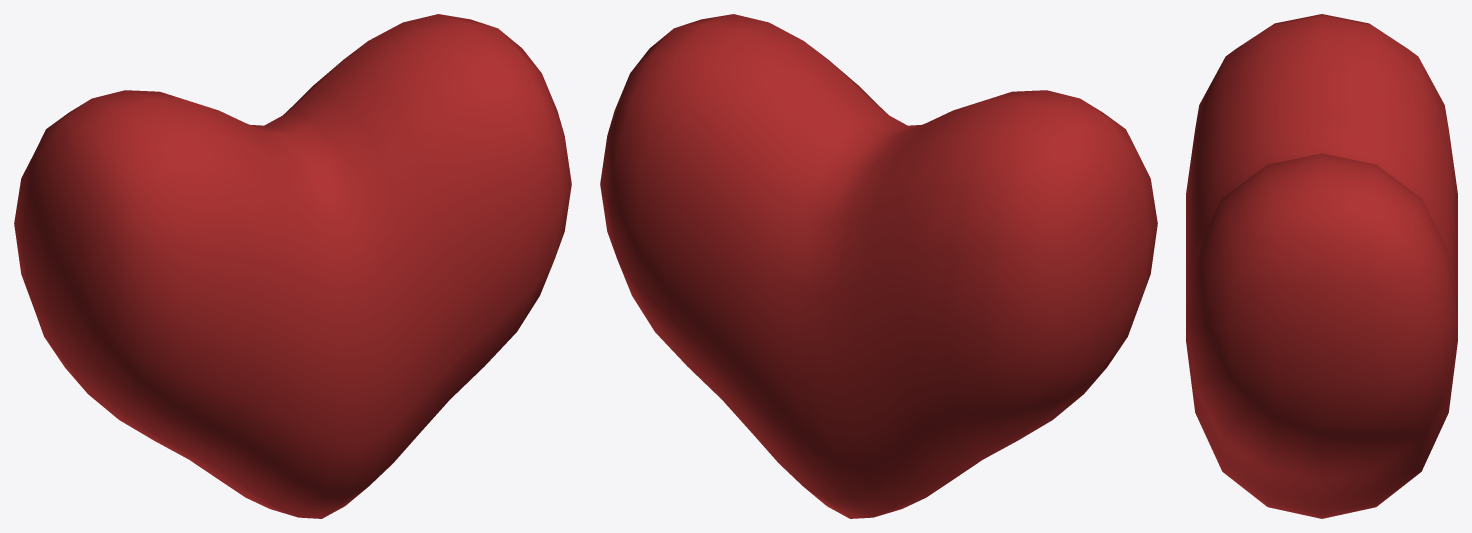
Rendered from heart_for_lara.fbx.
The picture shows the model from 3 angles, left to right: view 1: azimuth 30°, elevation 25°; view 2: azimuth 150°, elevation 25°; view 3: azimuth 270°, elevation 25°; orthographic projection. The views are drawn at different scales.
Parts seen in each view (by area): view 1: pCube2; view 2: pCube2; view 3: pCube2.
Boxes of the visible parts, box(x1,y1,x2,y2) form: pCube2: box(14, 14, 571, 518); pCube2: box(600, 14, 1157, 518); pCube2: box(1186, 14, 1457, 518).
Size of the model in its own units: 0.1402 by 0.1195 by 0.0704.
